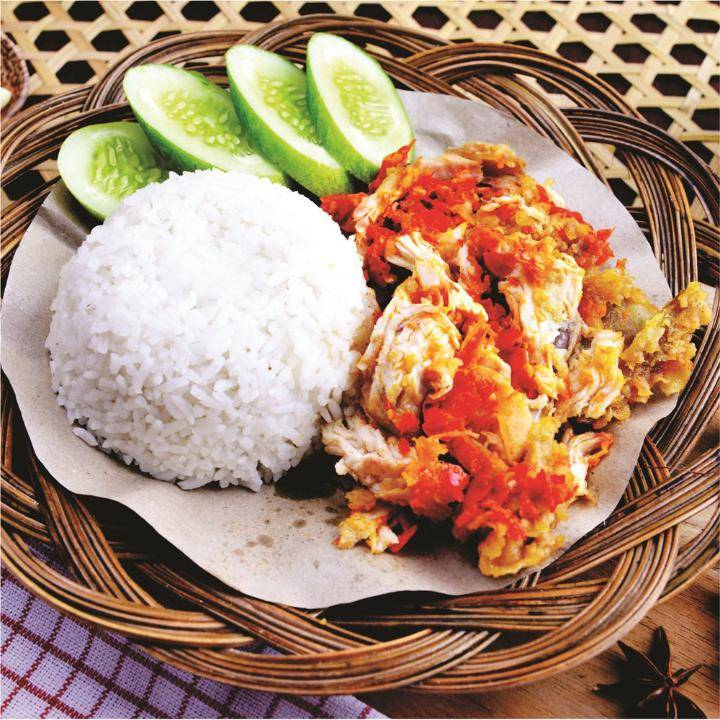ayam_geprek: (315, 131, 692, 559)
